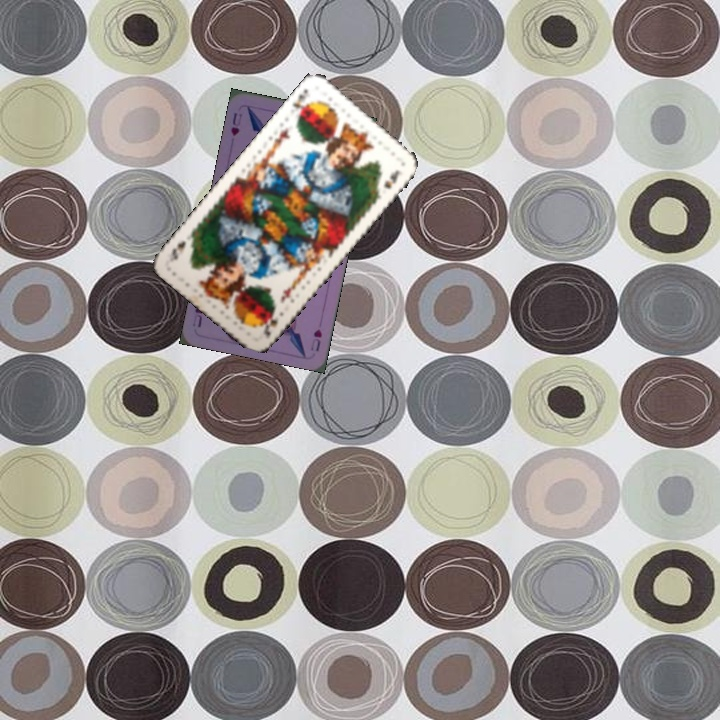HU: (227, 108, 245, 139), (306, 325, 325, 354)
SK: (258, 306, 287, 339), (288, 85, 314, 120)
